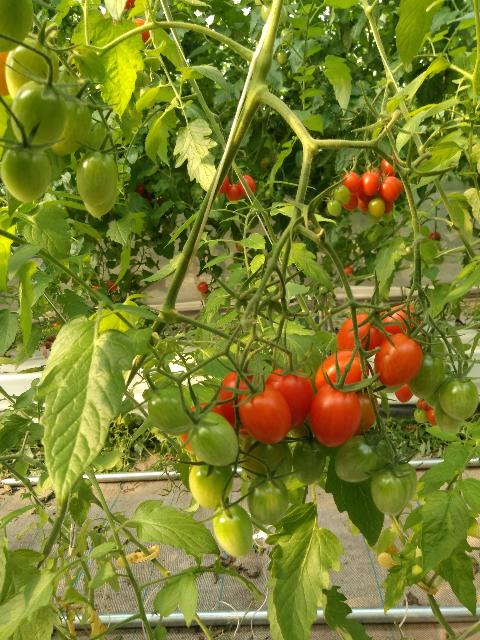l_fully_ripened: (310, 382, 361, 448), (264, 366, 313, 429), (217, 367, 264, 432), (373, 333, 423, 388), (314, 349, 369, 393), (336, 313, 383, 360), (376, 303, 422, 339), (361, 171, 380, 197), (379, 180, 399, 202), (342, 172, 361, 194), (383, 176, 403, 195), (394, 383, 414, 402), (238, 175, 255, 197), (381, 154, 397, 176), (341, 193, 358, 211), (226, 183, 241, 202), (379, 196, 394, 214), (356, 188, 371, 203), (425, 409, 437, 426), (416, 399, 431, 412), (219, 175, 229, 194)
l_green: (10, 79, 68, 151), (6, 36, 59, 101), (238, 382, 291, 445), (1, 140, 53, 203), (188, 411, 240, 467), (239, 433, 293, 484), (51, 95, 92, 156), (77, 150, 119, 208), (334, 435, 382, 483), (148, 385, 193, 436), (188, 458, 233, 509), (213, 501, 253, 558), (247, 476, 289, 526), (406, 351, 445, 399), (371, 468, 410, 516), (439, 376, 479, 421), (1, 1, 34, 52), (293, 437, 326, 485), (387, 460, 417, 502), (365, 432, 393, 476), (83, 183, 117, 217), (434, 400, 465, 432), (414, 333, 446, 363), (86, 120, 110, 152), (424, 386, 441, 410), (333, 184, 350, 205), (327, 197, 341, 216), (414, 408, 427, 424)
l_half_ripened: (353, 392, 379, 436), (368, 198, 385, 217)
